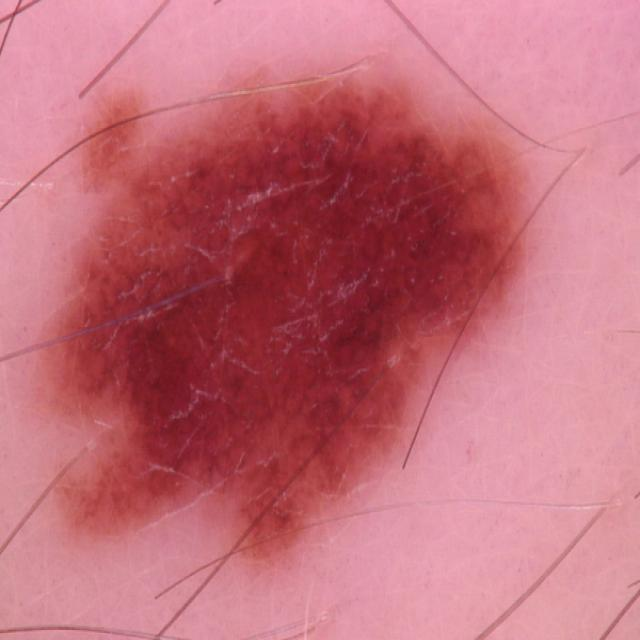NV: (34, 63, 532, 575)
